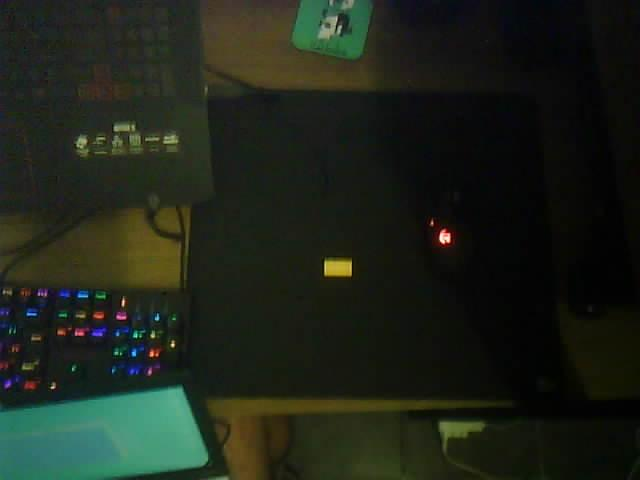lego: (323, 256, 353, 277)
